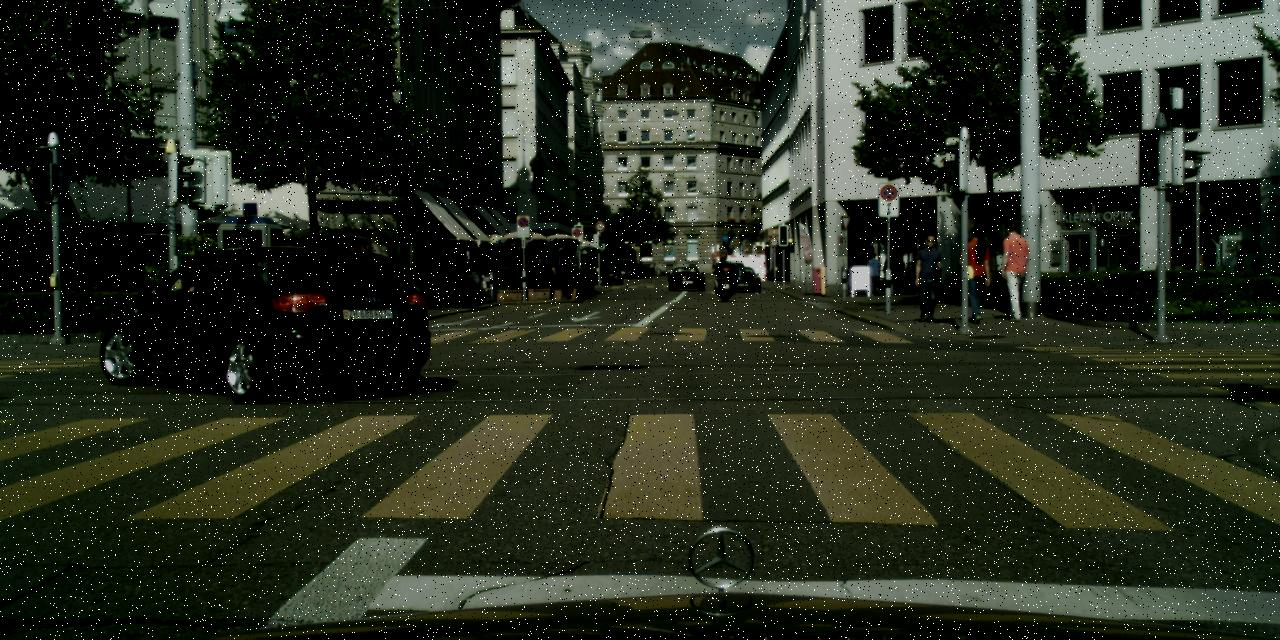ped: (993, 222, 1033, 318), (956, 226, 994, 320), (910, 234, 944, 320), (881, 251, 898, 293), (715, 252, 732, 294), (866, 252, 882, 294), (497, 260, 509, 290)
